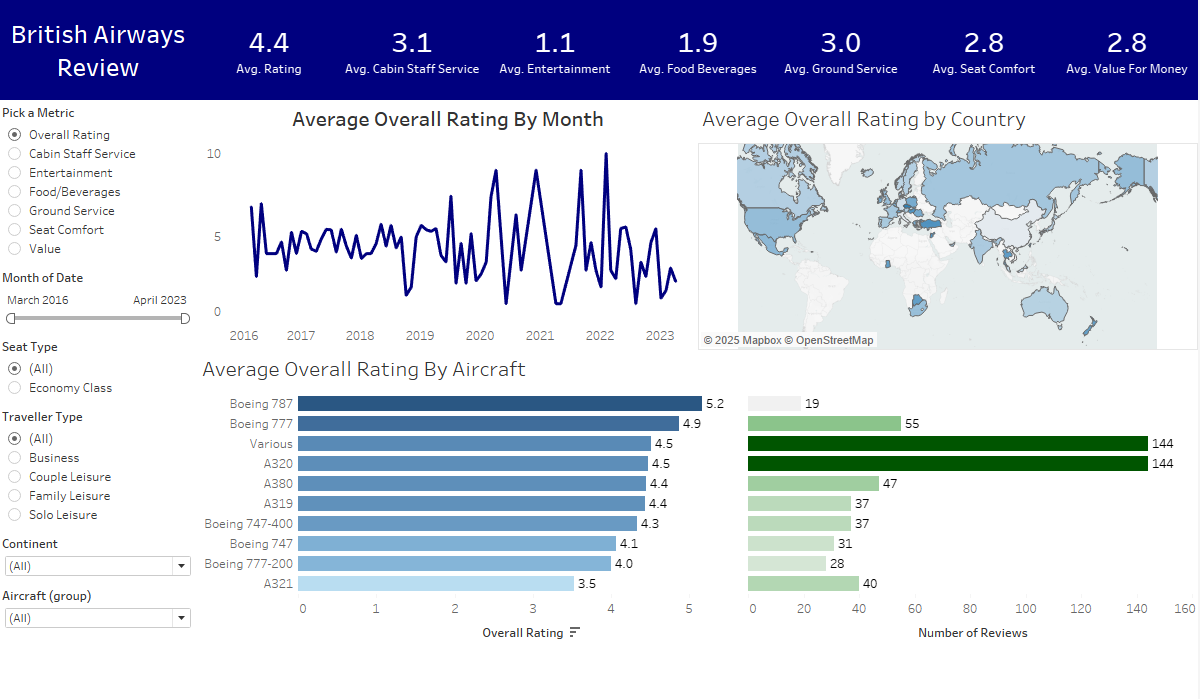

This screenshot's page, from the dashboard's own definition file:
{"tool":"tableau","page":{"name":"Main Dashboard","canvas":[1200,700],"ordinal":0},"visuals":[{"type":"text","box":[0,0,200,100]},{"type":"worksheet","title":"Summary","mark":"Automatic","box":[200,0,1000,100]},{"type":"parameter","param":"[Parameters].[Parameter 1]","box":[0,100,200,165]},{"type":"worksheet","title":"Month","mark":"Automatic","rows":["Calculation_1484217614964383744"],"cols":["date"],"box":[200,100,500,250]},{"type":"worksheet","title":"MAP","mark":"Automatic","box":[700,100,500,250]},{"type":"filter","title":"MAP","param":"[federated.1yom34k0nb6hvw1cktile0j50wnr].[tmn:date:qk]","box":[0,265,200,69]},{"type":"filter","title":"MAP","param":"[federated.1yom34k0nb6hvw1cktile0j50wnr].[none:seat_type:nk]","box":[0,334,200,70]},{"type":"worksheet","title":"grapohs","mark":"Automatic","cols":["Calculation_1484217614964383744","ba_reviews.csv_DFEB9141CF43459EBFC780C84EAC1344"],"box":[200,350,1000,350]},{"type":"filter","title":"MAP","param":"[federated.1yom34k0nb6hvw1cktile0j50wnr].[none:traveller_type:nk]","box":[0,404,200,127]},{"type":"filter","title":"MAP","param":"[federated.1yom34k0nb6hvw1cktile0j50wnr].[none:Continent:nk]","box":[0,531,200,52]},{"type":"filter","title":"MAP","param":"[federated.1yom34k0nb6hvw1cktile0j50wnr].[Aircraft (group)]","box":[0,583,200,52]}]}

Visuals, with their boxes in screenshot pixels (x1, y1, x2, y2), scaled from the page's 1200x700 canvas onto the 1200x699 screenshot:
text: crop(0, 0, 200, 100)
"Summary" worksheet: crop(200, 0, 1199, 100)
parameter: crop(0, 100, 200, 265)
"Month" worksheet: crop(200, 100, 700, 350)
"MAP" worksheet: crop(700, 100, 1199, 350)
"MAP" filter: crop(0, 265, 200, 334)
"MAP" filter: crop(0, 334, 200, 403)
"grapohs" worksheet: crop(200, 350, 1199, 698)
"MAP" filter: crop(0, 403, 200, 530)
"MAP" filter: crop(0, 530, 200, 582)
"MAP" filter: crop(0, 582, 200, 634)
